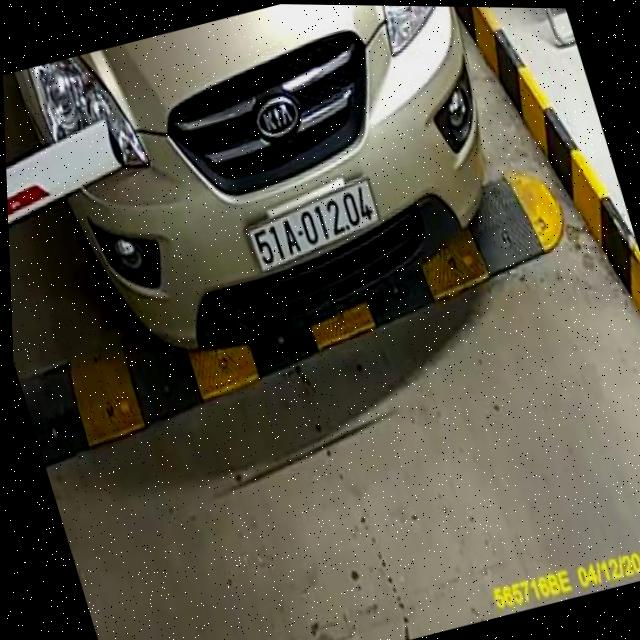car: (9, 0, 553, 392)
plate: (236, 177, 388, 275)
